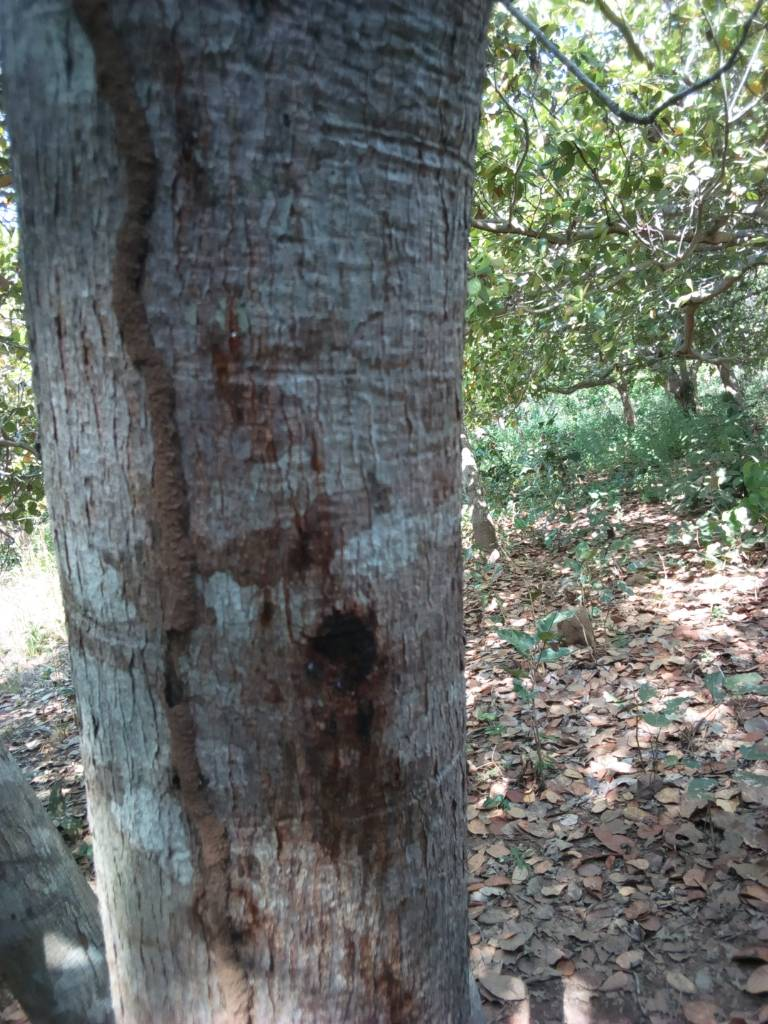Apate terebrans: (290, 585, 418, 705)
